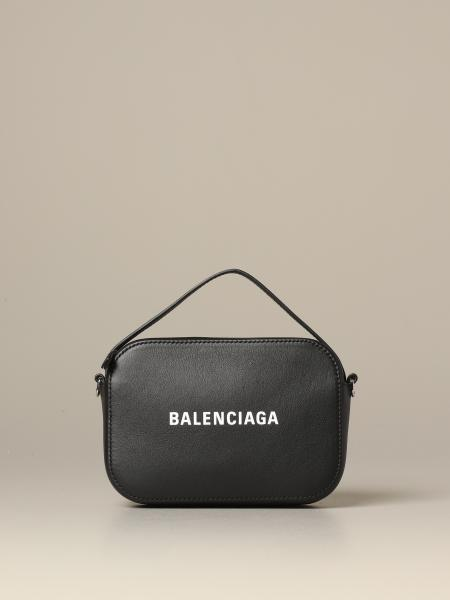BALENCIAGA: (170, 411, 278, 425)
